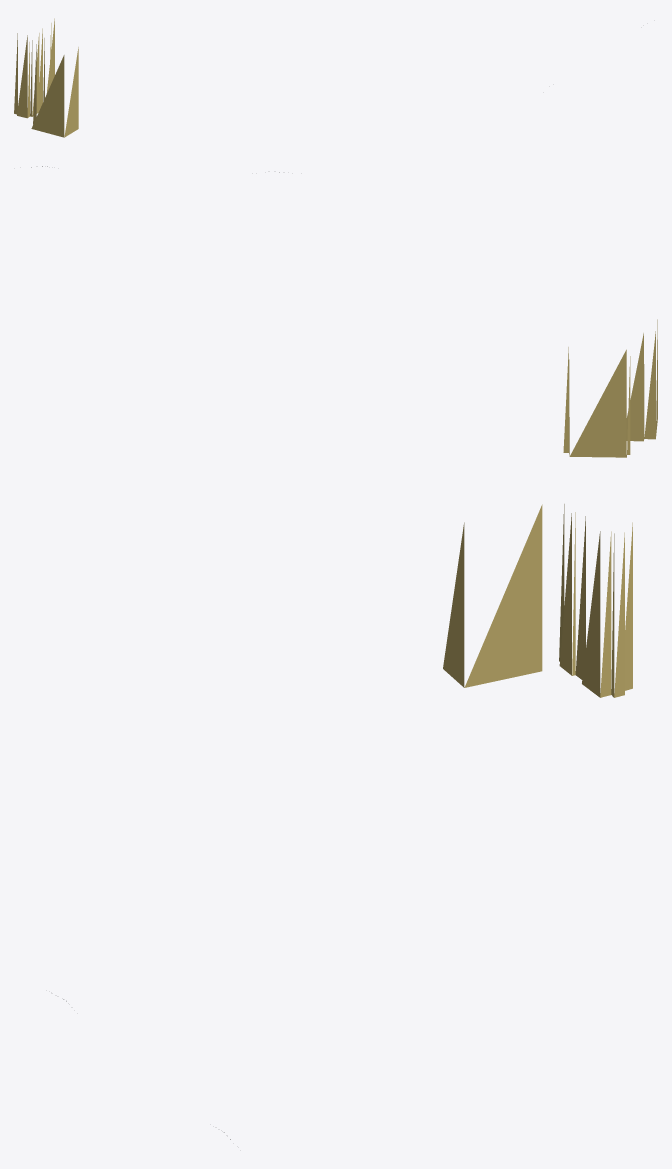
3 renders of one model, top to bottom at view 1: azimuth 30°, elevation 25°; view 2: azimuth 150°, elevation 25°; view 3: azimuth 270°, elevation 25°, orthographic. The views are drawn at different scales.
Bounding box in the file's own units: 578 × 82.5 × 266.
